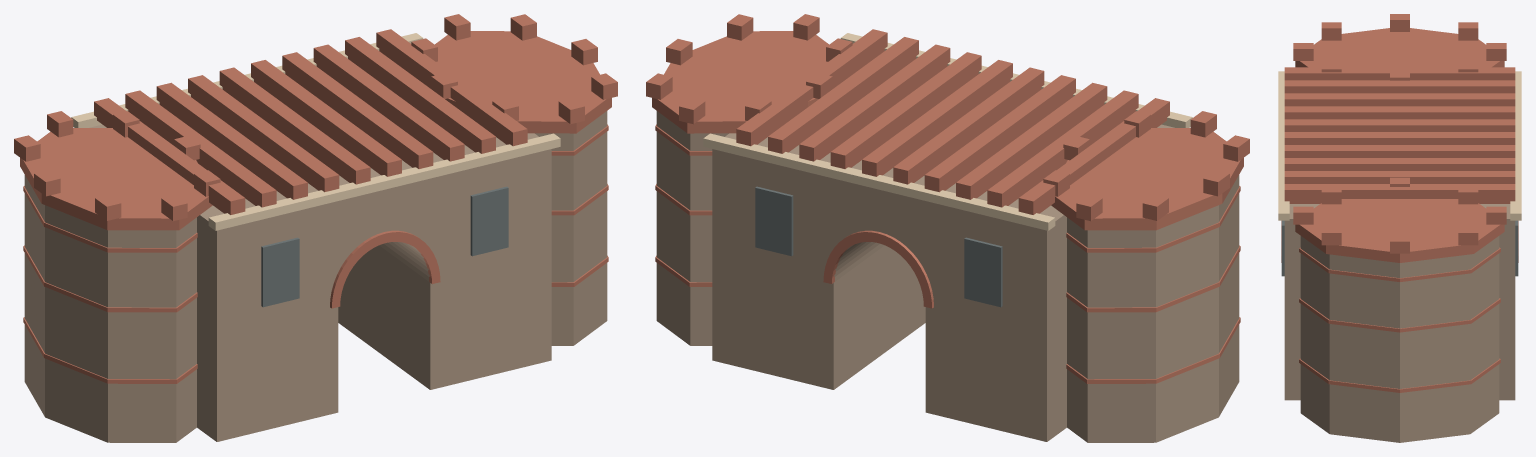
Rendered from purana-qila.glb.
The picture shows the model from 3 angles, left to right: view 1: azimuth 30°, elevation 25°; view 2: azimuth 150°, elevation 25°; view 3: azimuth 270°, elevation 25°; orthographic projection. The views are drawn at different scales.
Parts seen in each view (by area): view 1: NCR_purana-qila; view 2: NCR_purana-qila; view 3: NCR_purana-qila.
Part boxes in pixels (x1,y1,x2,y2): NCR_purana-qila: [14, 14, 617, 442]; NCR_purana-qila: [646, 14, 1249, 442]; NCR_purana-qila: [1278, 14, 1521, 442].
Bounding box in the file's own units: 47.96 × 20 × 21.69.
